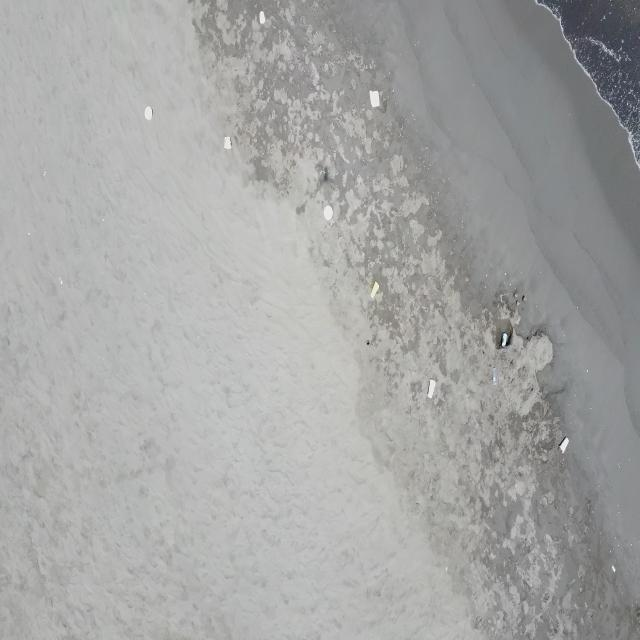take-away-containers: (368, 88, 381, 110), (324, 205, 334, 220), (258, 9, 266, 27), (145, 105, 153, 122), (224, 136, 232, 150)
takeaway-cup: (370, 280, 380, 300), (427, 377, 436, 399), (558, 437, 570, 453), (500, 332, 509, 348), (492, 367, 498, 387)
